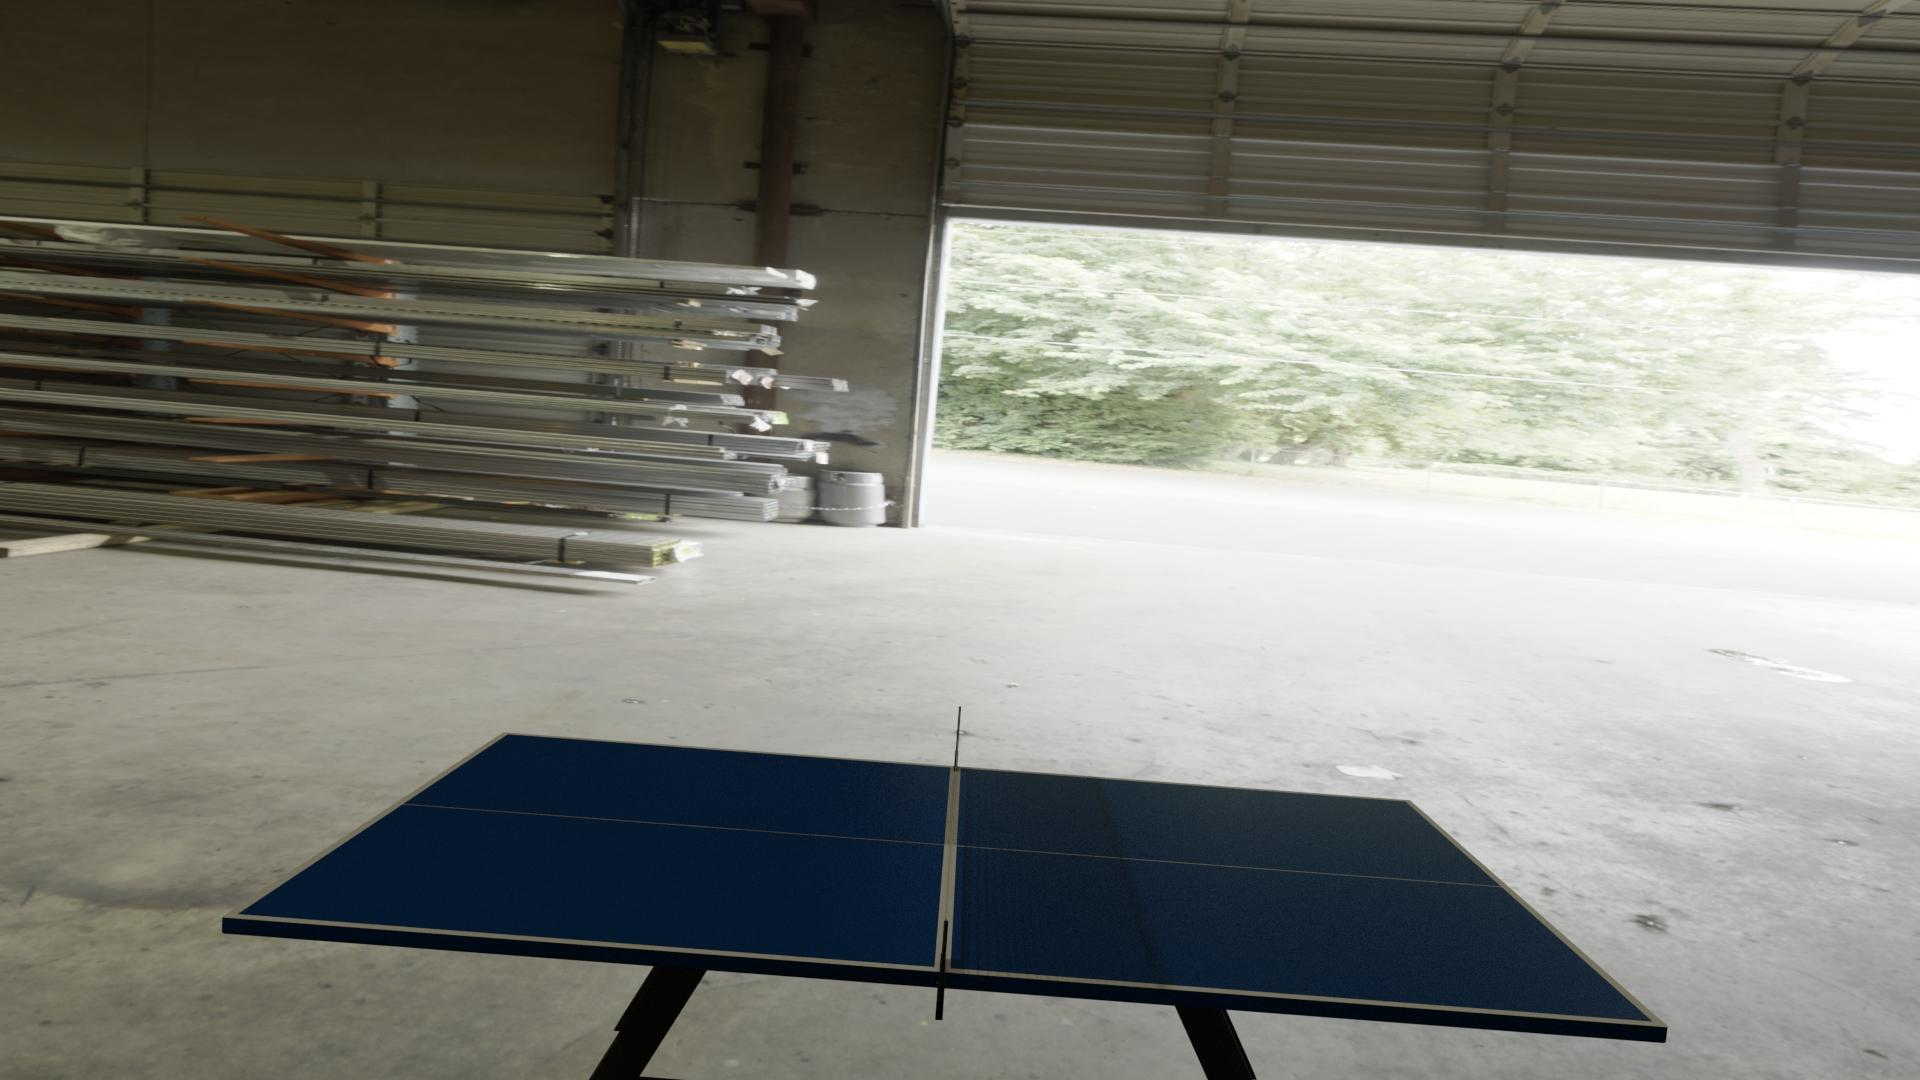table: (237, 735, 1654, 1022)
